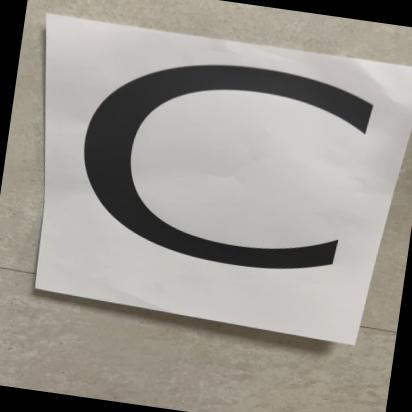seat: (36, 27, 390, 326)
